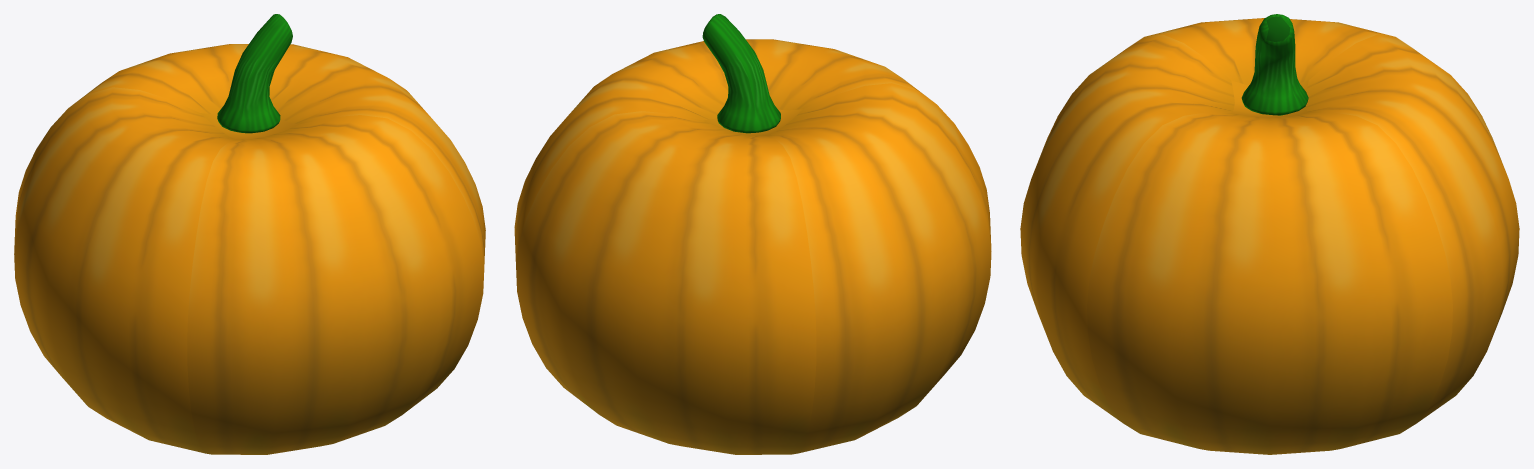
File: pumpkin.fbx
3 renders of one model, left to right at view 1: azimuth 30°, elevation 25°; view 2: azimuth 150°, elevation 25°; view 3: azimuth 270°, elevation 25°, orthographic. The views are drawn at different scales.
Parts seen in each view (by area): view 1: Cube; view 2: Cube; view 3: Cube.
Part boxes in pixels (box(x1,y1,x2,y2)): Cube: box(14, 14, 485, 454); Cube: box(514, 14, 991, 454); Cube: box(1020, 14, 1519, 454).
Size of the model in its own units: 2.69 by 2.44 by 2.69.
